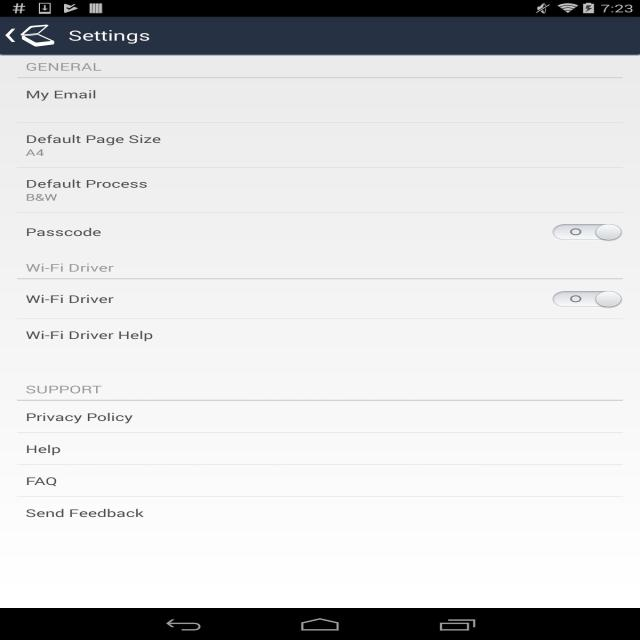button: (16, 122, 620, 160), (17, 170, 621, 206), (17, 433, 618, 463), (16, 501, 619, 527), (16, 403, 616, 429), (16, 470, 618, 495), (554, 287, 624, 311), (553, 222, 621, 243), (6, 23, 20, 48)
field: (17, 88, 619, 122)
heading: (64, 27, 153, 47), (22, 59, 105, 74), (23, 382, 103, 395), (28, 262, 114, 274)
image: (20, 22, 56, 48)
label: (21, 88, 102, 100)
text: (21, 130, 166, 158), (24, 177, 156, 203), (24, 505, 148, 522), (20, 329, 160, 342), (19, 410, 136, 425), (24, 292, 117, 307), (27, 226, 106, 240), (24, 442, 65, 457), (21, 474, 62, 489)
